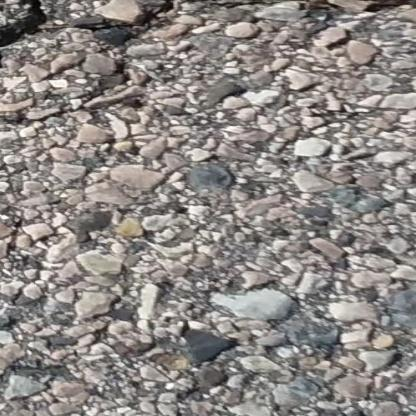Cracks: (0, 0, 416, 119)
